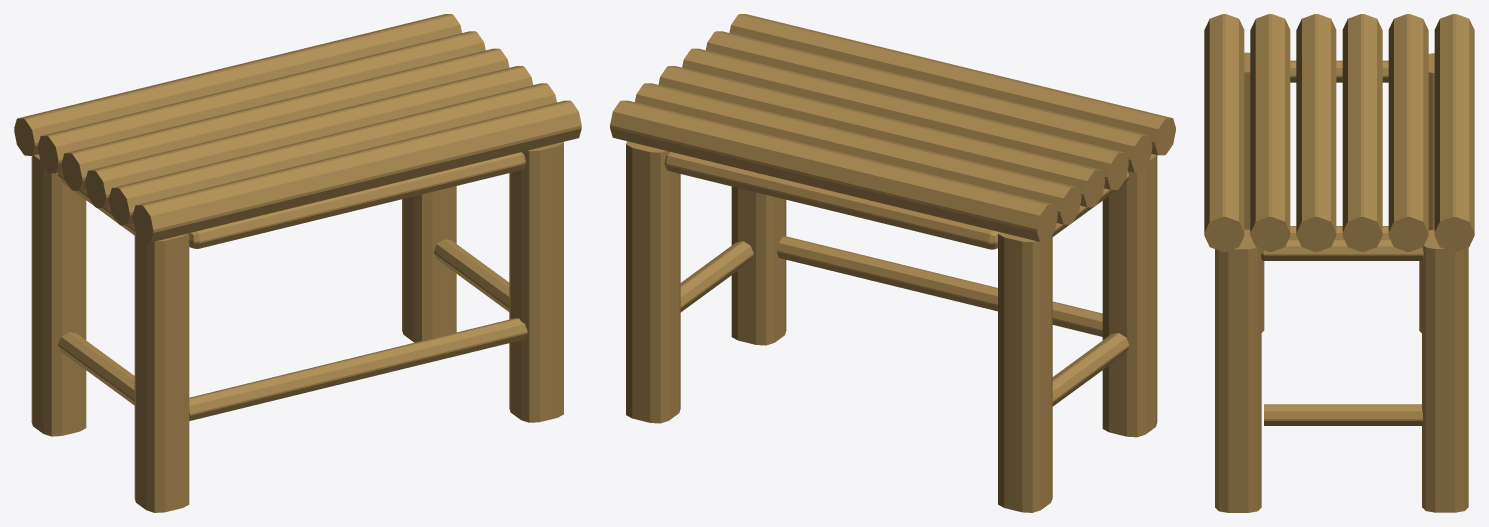
File: 木の机.fbx
3 views of the same model, side by side, from view 1: azimuth 30°, elevation 25°; view 2: azimuth 150°, elevation 25°; view 3: azimuth 270°, elevation 25° (orthographic). The views are drawn at different scales.
Parts seen in each view (by area): view 1: zamen; view 2: zamen; view 3: zamen.
Part boxes in pixels (x1,y1,x2,y2): zamen: (14, 14, 581, 512); zamen: (610, 14, 1175, 512); zamen: (1204, 14, 1474, 512).
Bounding box in the file's own units: 16.06 × 11.04 × 9.03.
